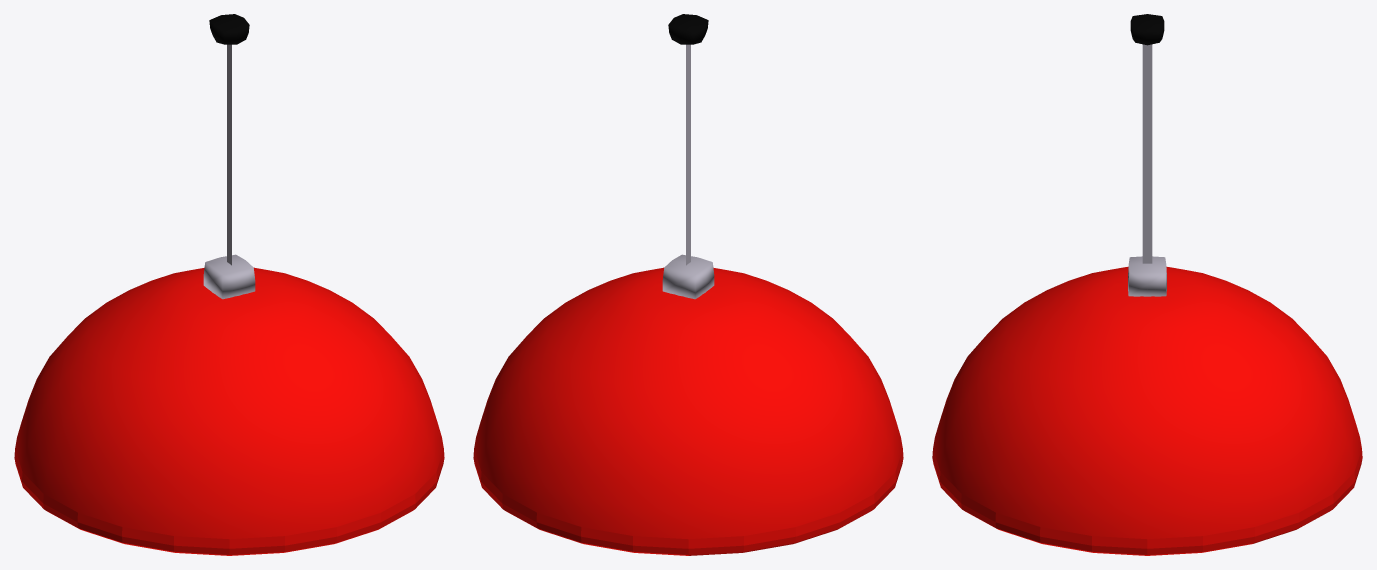
The model's file is lampe weniger SBS SMOOTH ALONE.fbx.
3 renders of one model, left to right at view 1: azimuth 30°, elevation 25°; view 2: azimuth 150°, elevation 25°; view 3: azimuth 270°, elevation 25°, orthographic.
Visible parts, largest first — view 1: lampe; view 2: lampe; view 3: lampe.
Part boxes in pixels (x1,y1,x2,y2): lampe: [14, 14, 444, 555]; lampe: [473, 14, 903, 555]; lampe: [932, 14, 1362, 555].
Bounding box in the file's own units: 0.4833 × 0.5526 × 0.4833.
